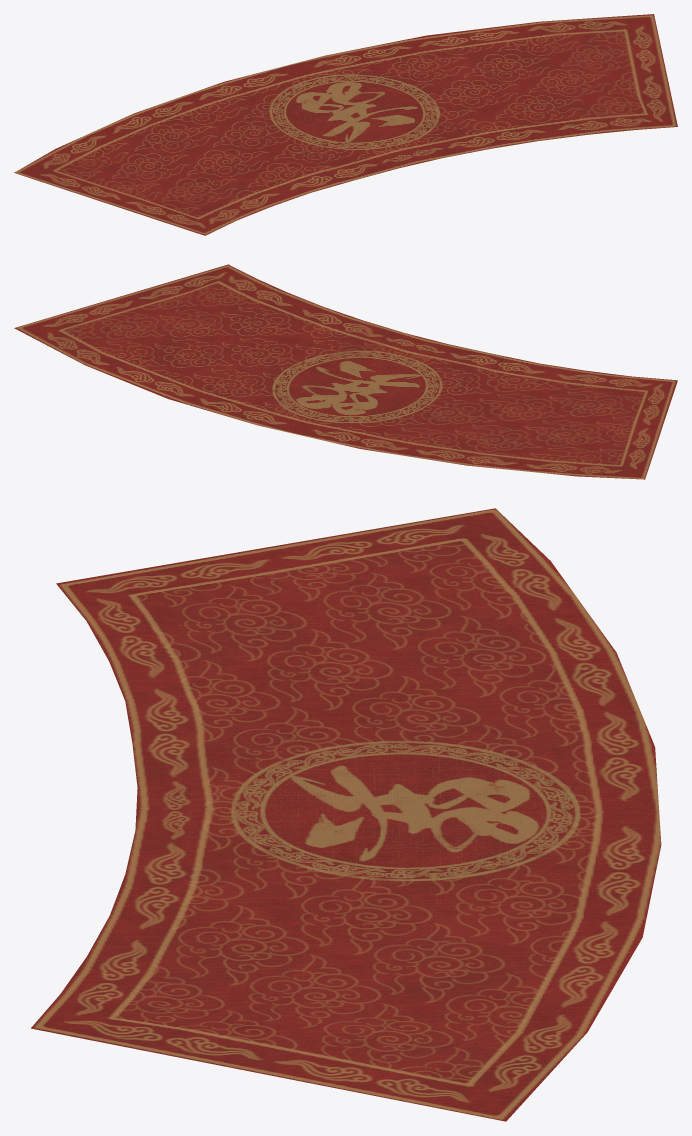
The model's file is fb_prop_ditan_03.FBX.
3 renders of one model, top to bottom at view 1: azimuth 30°, elevation 25°; view 2: azimuth 150°, elevation 25°; view 3: azimuth 270°, elevation 25°, orthographic. The views are drawn at different scales.
Parts seen in each view (by area): view 1: fb_prop_ditan_02__7_; view 2: fb_prop_ditan_02__7_; view 3: fb_prop_ditan_02__7_.
Part boxes in pixels (left/top/right/bottom): fb_prop_ditan_02__7_: left=14, top=14, right=677, bottom=235; fb_prop_ditan_02__7_: left=14, top=264, right=677, bottom=479; fb_prop_ditan_02__7_: left=31, top=508, right=661, bottom=1121.
Bounding box in the file's own units: 1636 × 0.0014 × 711.
